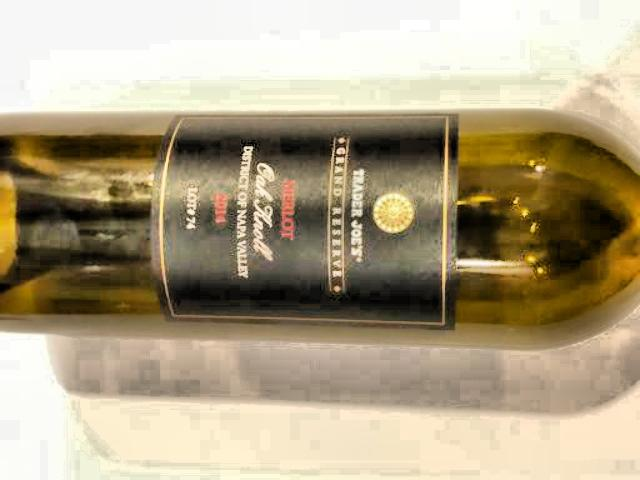Bottles: (0, 81, 640, 365)
